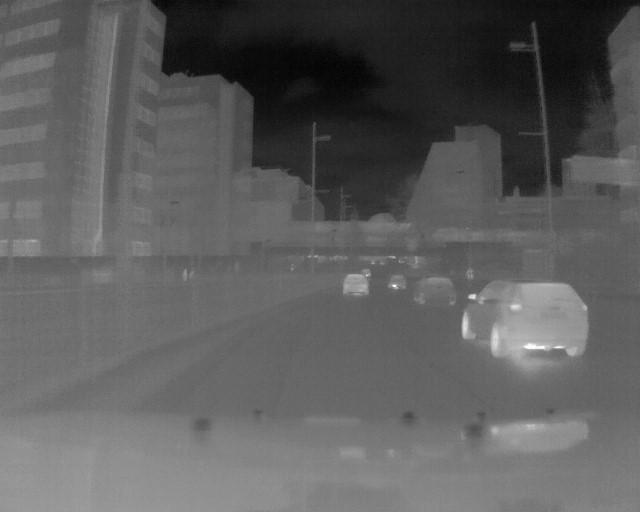car: (455, 276, 603, 363), (417, 276, 459, 303), (343, 275, 377, 300), (390, 270, 412, 290)
